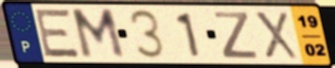1: (175, 11, 202, 59)
3: (128, 8, 167, 61)
E: (33, 8, 82, 59)
M: (69, 6, 128, 61)
X: (252, 10, 301, 61)
Z: (212, 10, 261, 61)
